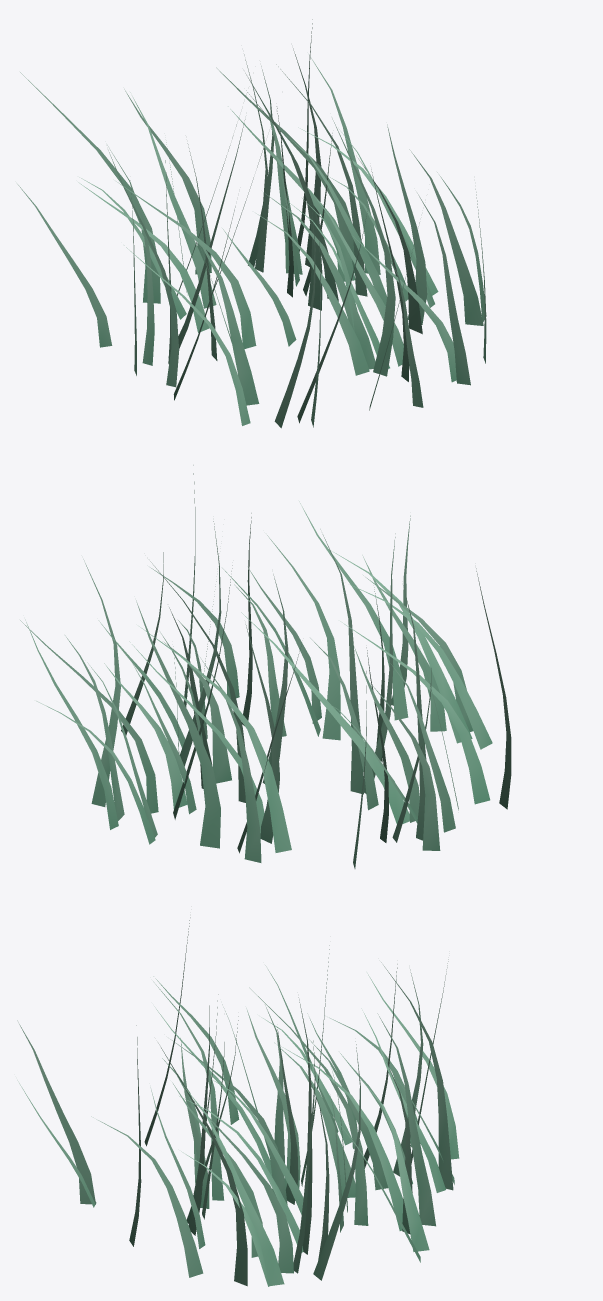
File: mesh-plant-008-golden-ribbon_LOD1.glb
The picture shows the model from 3 angles, top to bottom: view 1: azimuth 30°, elevation 25°; view 2: azimuth 150°, elevation 25°; view 3: azimuth 270°, elevation 25°; orthographic projection. The views are drawn at different scales.
Visible parts, largest first — view 1: geometry_0; view 2: geometry_0; view 3: geometry_0.
Part boxes in pixels (x1,y1,x2,y2): geometry_0: [17, 19, 486, 428]; geometry_0: [20, 465, 511, 868]; geometry_0: [17, 917, 459, 1286].
Size of the model in its own units: 2.18 by 1.07 by 2.6.
